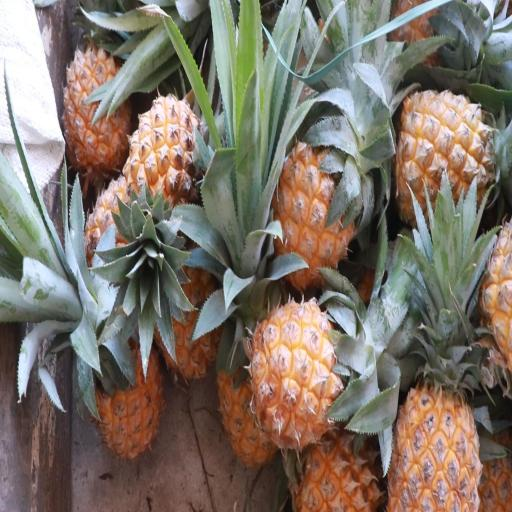Pineapple - v8 v1: (387, 281, 484, 512), (242, 289, 348, 460), (391, 89, 496, 241), (263, 127, 357, 294), (86, 280, 170, 466), (149, 213, 227, 389), (286, 388, 389, 512), (118, 90, 207, 227), (62, 38, 136, 180)
